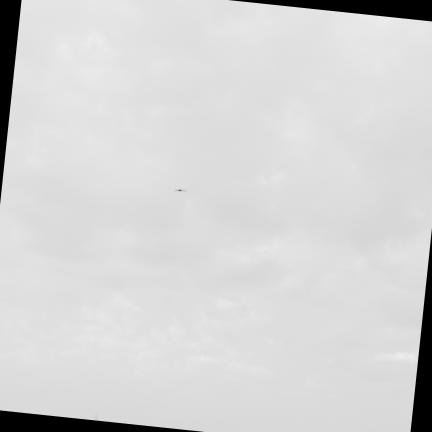Shahed: (175, 189, 187, 191)
